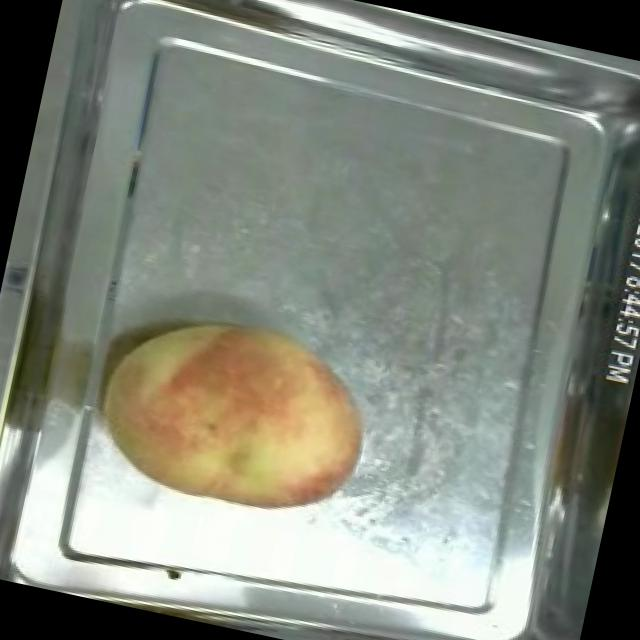Fruit: (77, 288, 391, 542)
